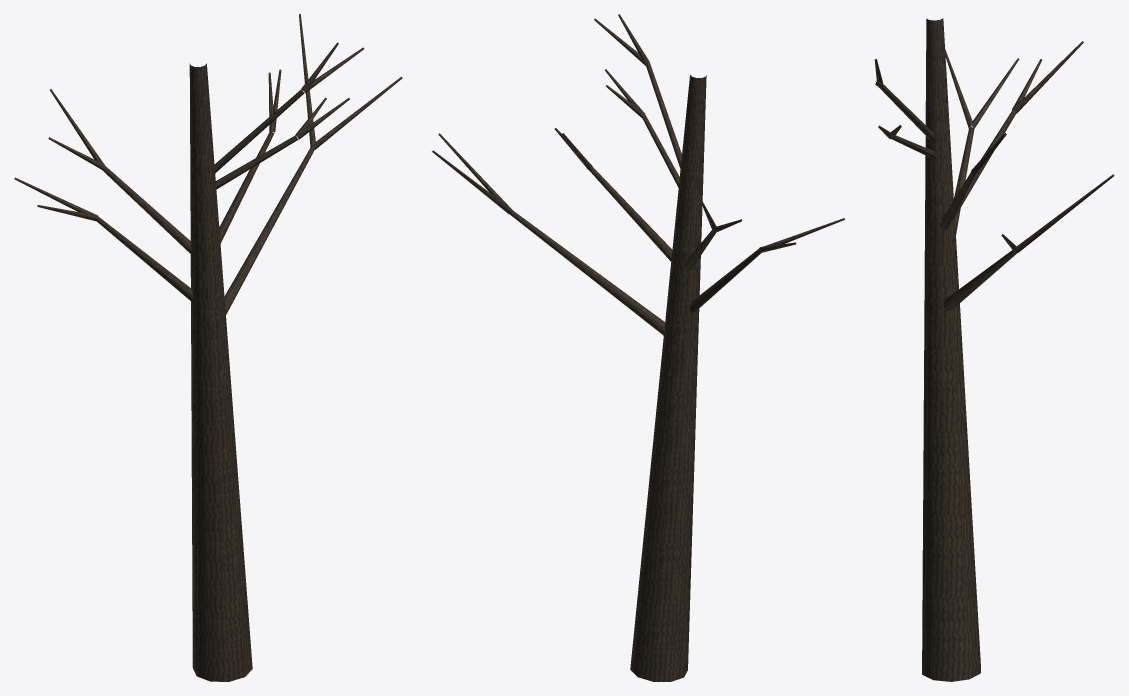
Rendered from dead_tree_1.glb.
The picture shows the model from 3 angles, left to right: view 1: azimuth 30°, elevation 25°; view 2: azimuth 150°, elevation 25°; view 3: azimuth 270°, elevation 25°; orthographic projection. The views are drawn at different scales.
Visible parts, largest first — view 1: dead_tree_1; view 2: dead_tree_1; view 3: dead_tree_1.
Boxes of the visible parts, x1=… form: dead_tree_1: x1=14, y1=14, x2=402, y2=681; dead_tree_1: x1=432, y1=14, x2=844, y2=681; dead_tree_1: x1=874, y1=18, x2=1114, y2=681.
Bounding box in the file's own units: 4.23 × 6.52 × 2.18.
1 material, 1 textured.
